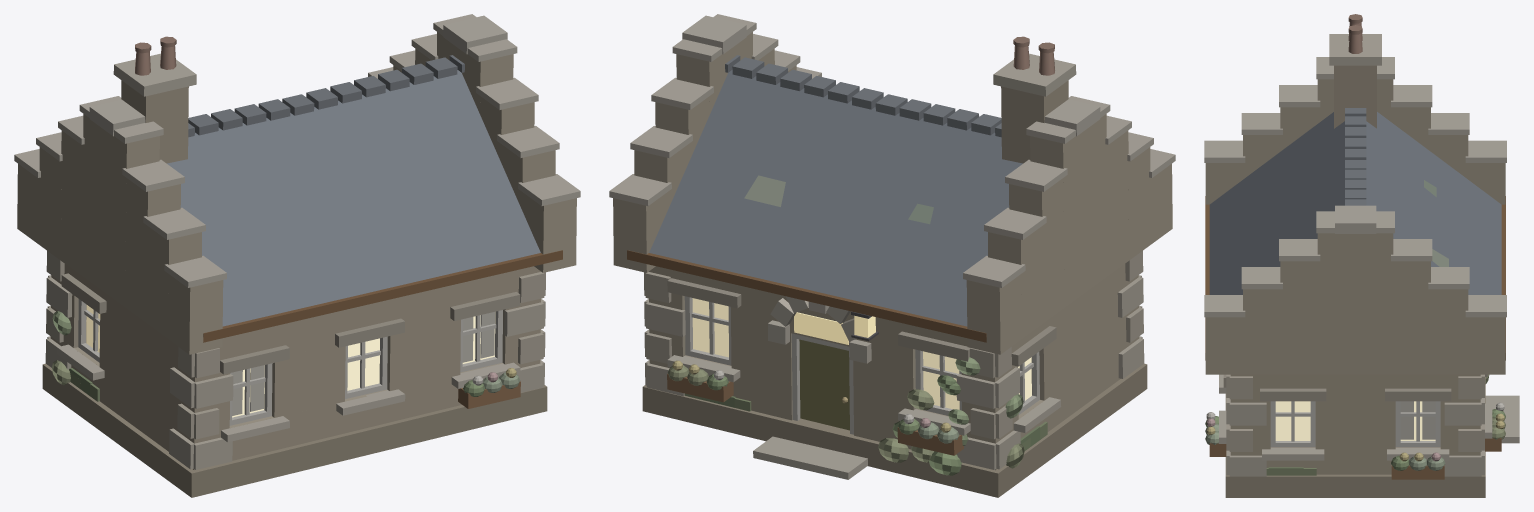
Rendered from cottage-1s.glb.
The picture shows the model from 3 angles, left to right: view 1: azimuth 30°, elevation 25°; view 2: azimuth 150°, elevation 25°; view 3: azimuth 270°, elevation 25°; orthographic projection. The views are drawn at different scales.
Visible parts, largest first — view 1: cottage-1s; view 2: cottage-1s; view 3: cottage-1s.
Part boxes in pixels (<box>): cottage-1s: <box>14,14,580,497</box>; cottage-1s: <box>609,14,1175,497</box>; cottage-1s: <box>1204,14,1519,497</box>.
Bounding box in the file's own units: 4.06 × 3.87 × 3.23.
